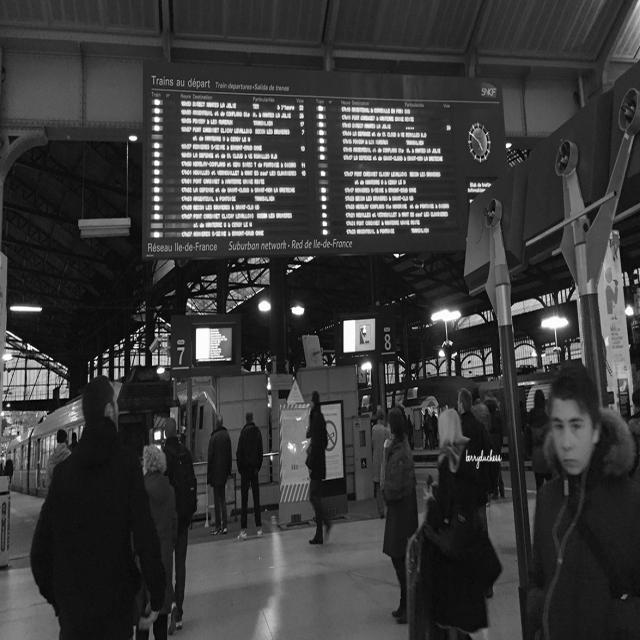body: (27, 373, 153, 639), (523, 355, 639, 639), (422, 408, 503, 639), (132, 442, 179, 639), (380, 408, 416, 625), (162, 416, 190, 637), (304, 389, 333, 545), (234, 408, 264, 540), (205, 414, 232, 537), (523, 387, 552, 499), (400, 388, 447, 453), (482, 387, 506, 499), (371, 407, 391, 518), (45, 427, 72, 494), (455, 387, 488, 440), (468, 386, 492, 441), (627, 387, 640, 443), (4, 452, 14, 501), (68, 431, 80, 454), (483, 372, 503, 381), (0, 461, 3, 477)
